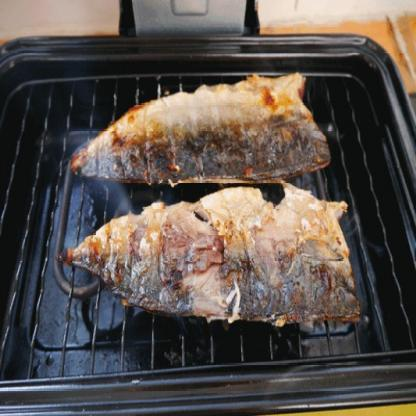Peixe: (60, 55, 366, 338)
